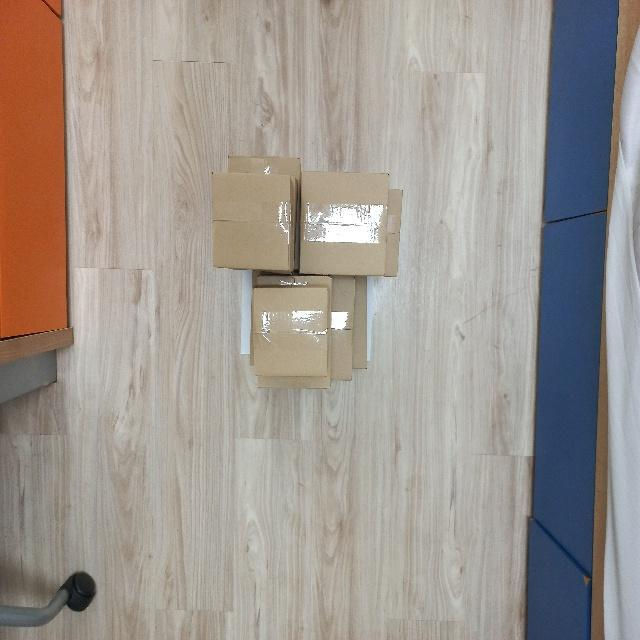box: (299, 171, 388, 276), (212, 171, 292, 270), (252, 286, 329, 376)
